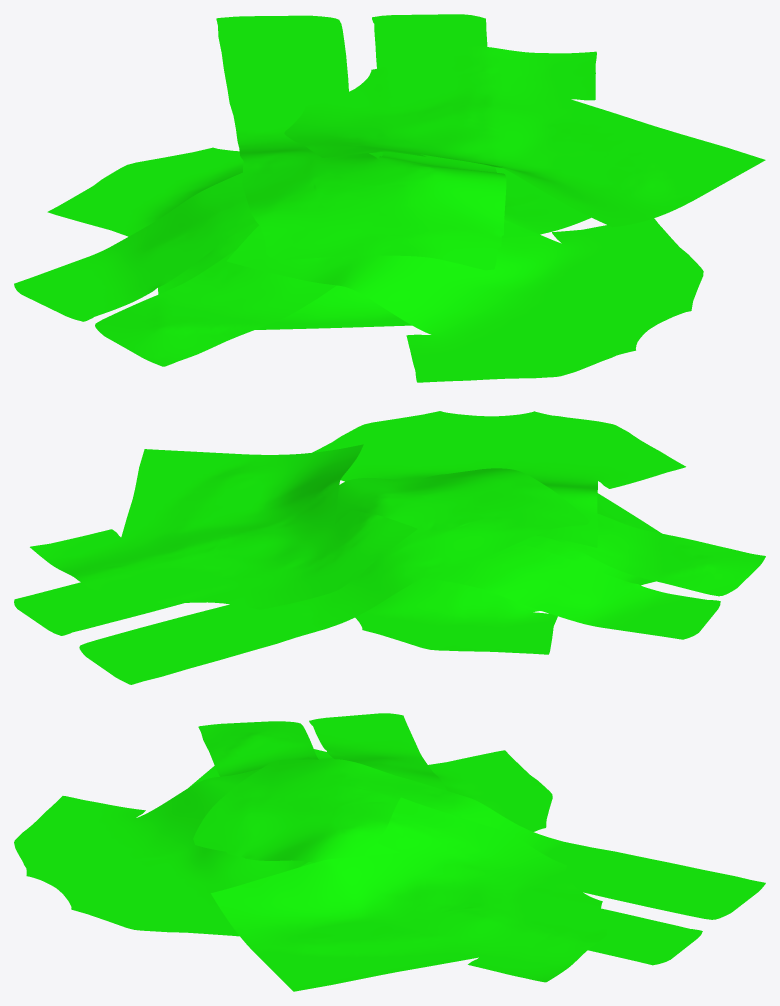
Rendered from Clothes.fbx.
The picture shows the model from 3 angles, top to bottom: view 1: azimuth 30°, elevation 25°; view 2: azimuth 150°, elevation 25°; view 3: azimuth 270°, elevation 25°; orthographic projection. The views are drawn at different scales.
Visible parts, largest first — view 1: Clothes; view 2: Clothes; view 3: Clothes.
Part boxes in pixels (<box>): Clothes: <box>14,14,765,382</box>; Clothes: <box>14,411,765,684</box>; Clothes: <box>14,713,765,991</box>.
Bounding box in the file's own units: 113 × 8.11 × 128.
